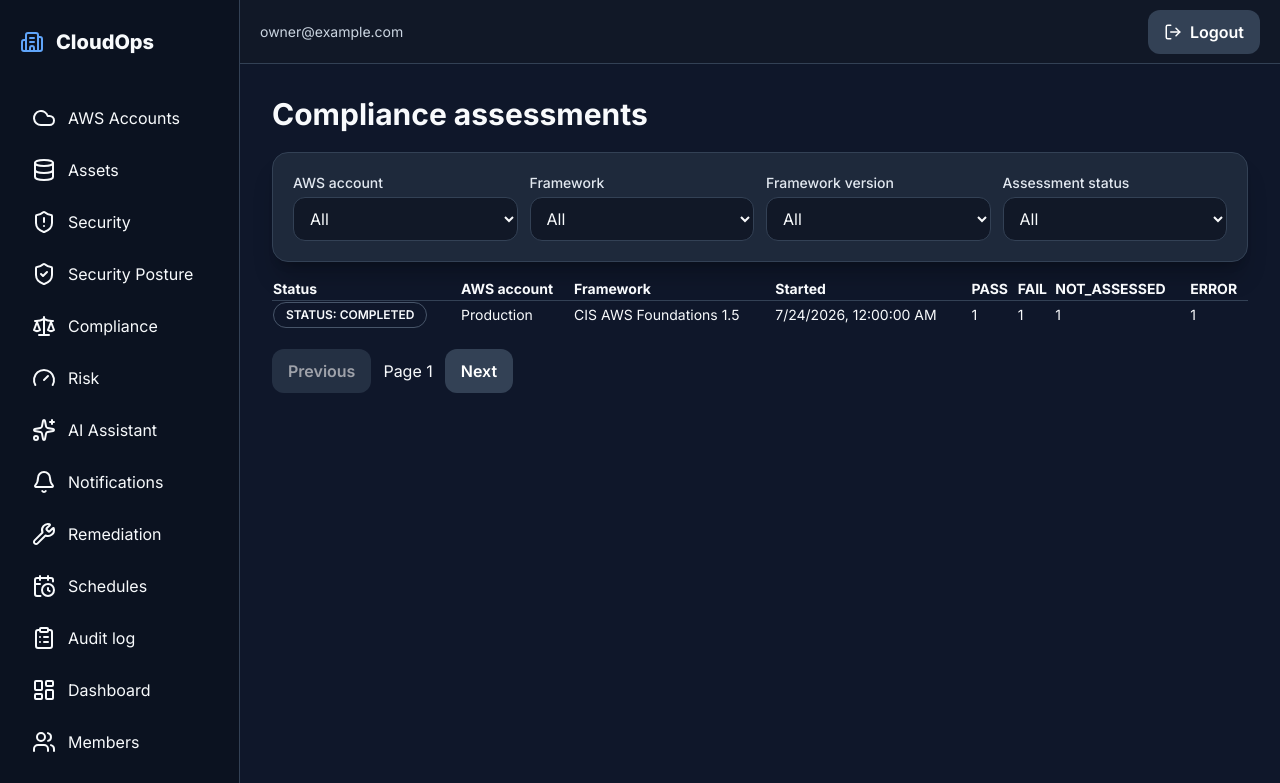
Test: Stage 5 compliance › filters and paginates assessment history
The image size is (1280, 783).
Expected: the heading "Compliance assessments" is shown, [272, 96, 648, 132]
Select "completed" in the dropdown labelled "Assessment status" at (1115, 219), box [1002, 197, 1227, 241]
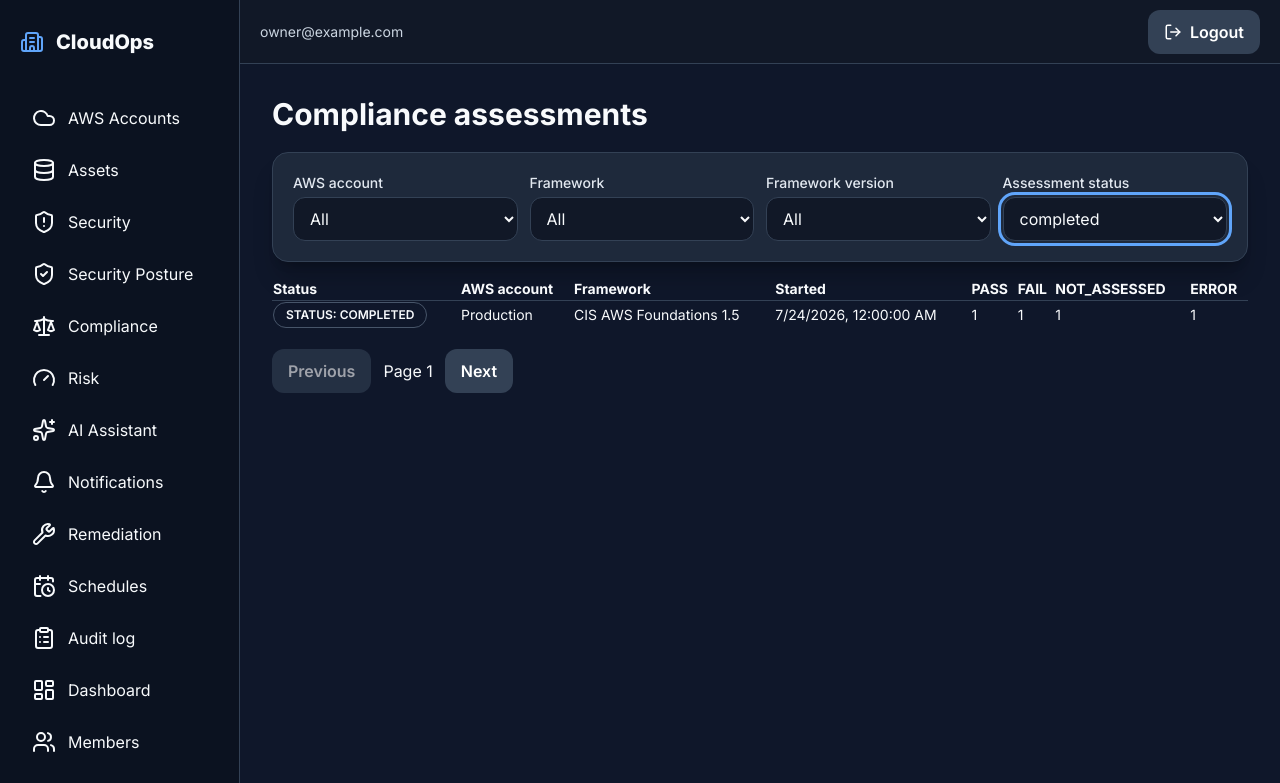
Click the button with aria-label "next assessment page".
click(479, 371)  # box [445, 349, 513, 393]
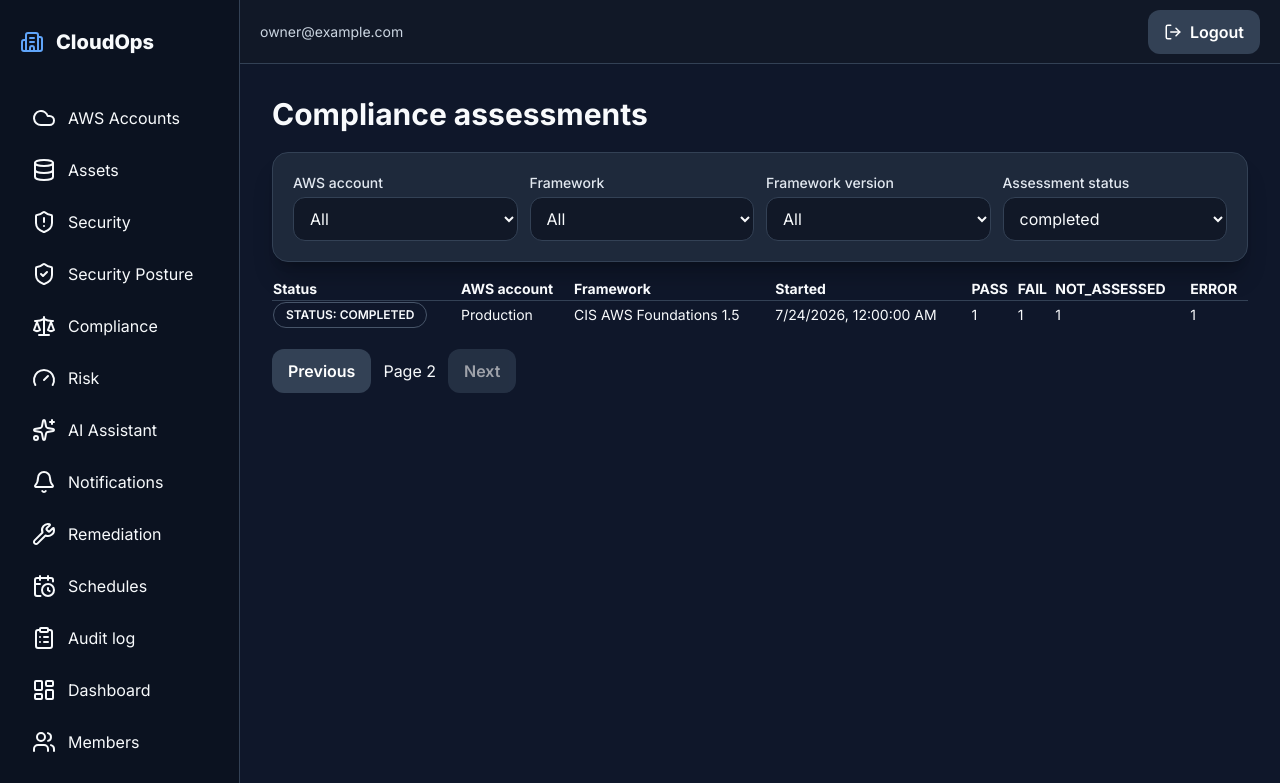
Now the text "Page 2" is shown, box [383, 359, 436, 383]
